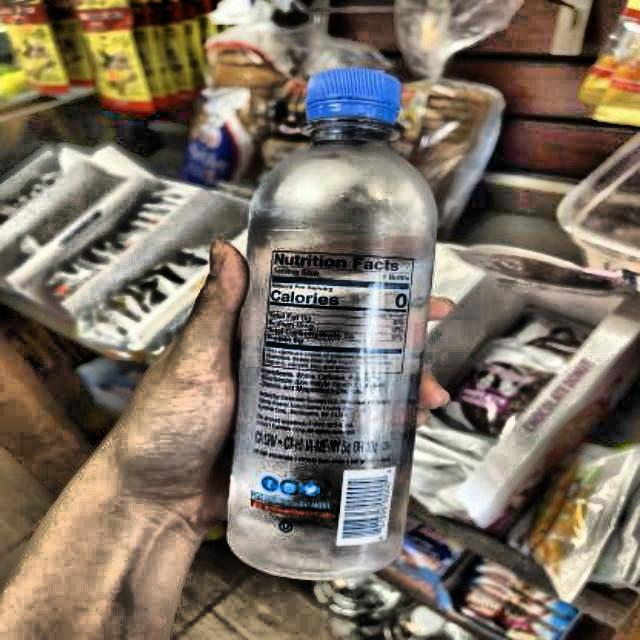Bottles: (214, 50, 432, 583)
